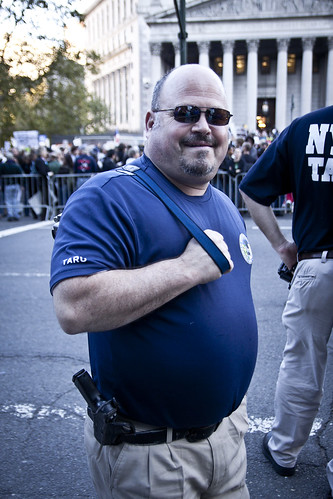building: (89, 1, 333, 132)
policeman: (52, 69, 264, 499)
